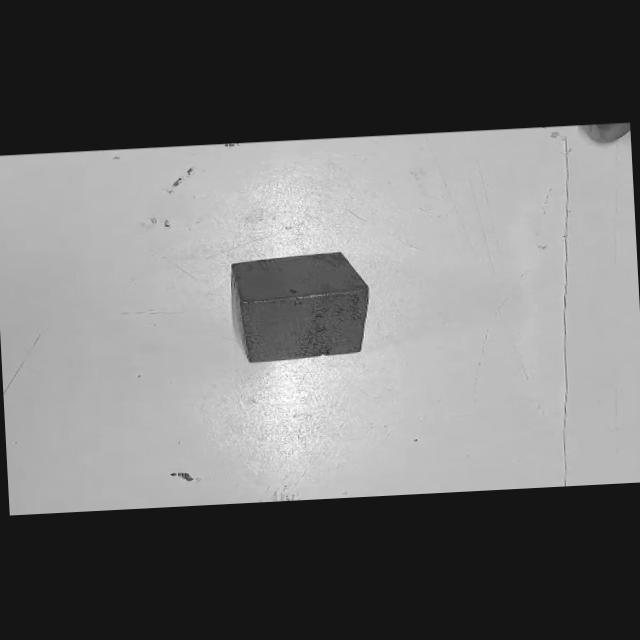rtriangle: (228, 250, 377, 366)
